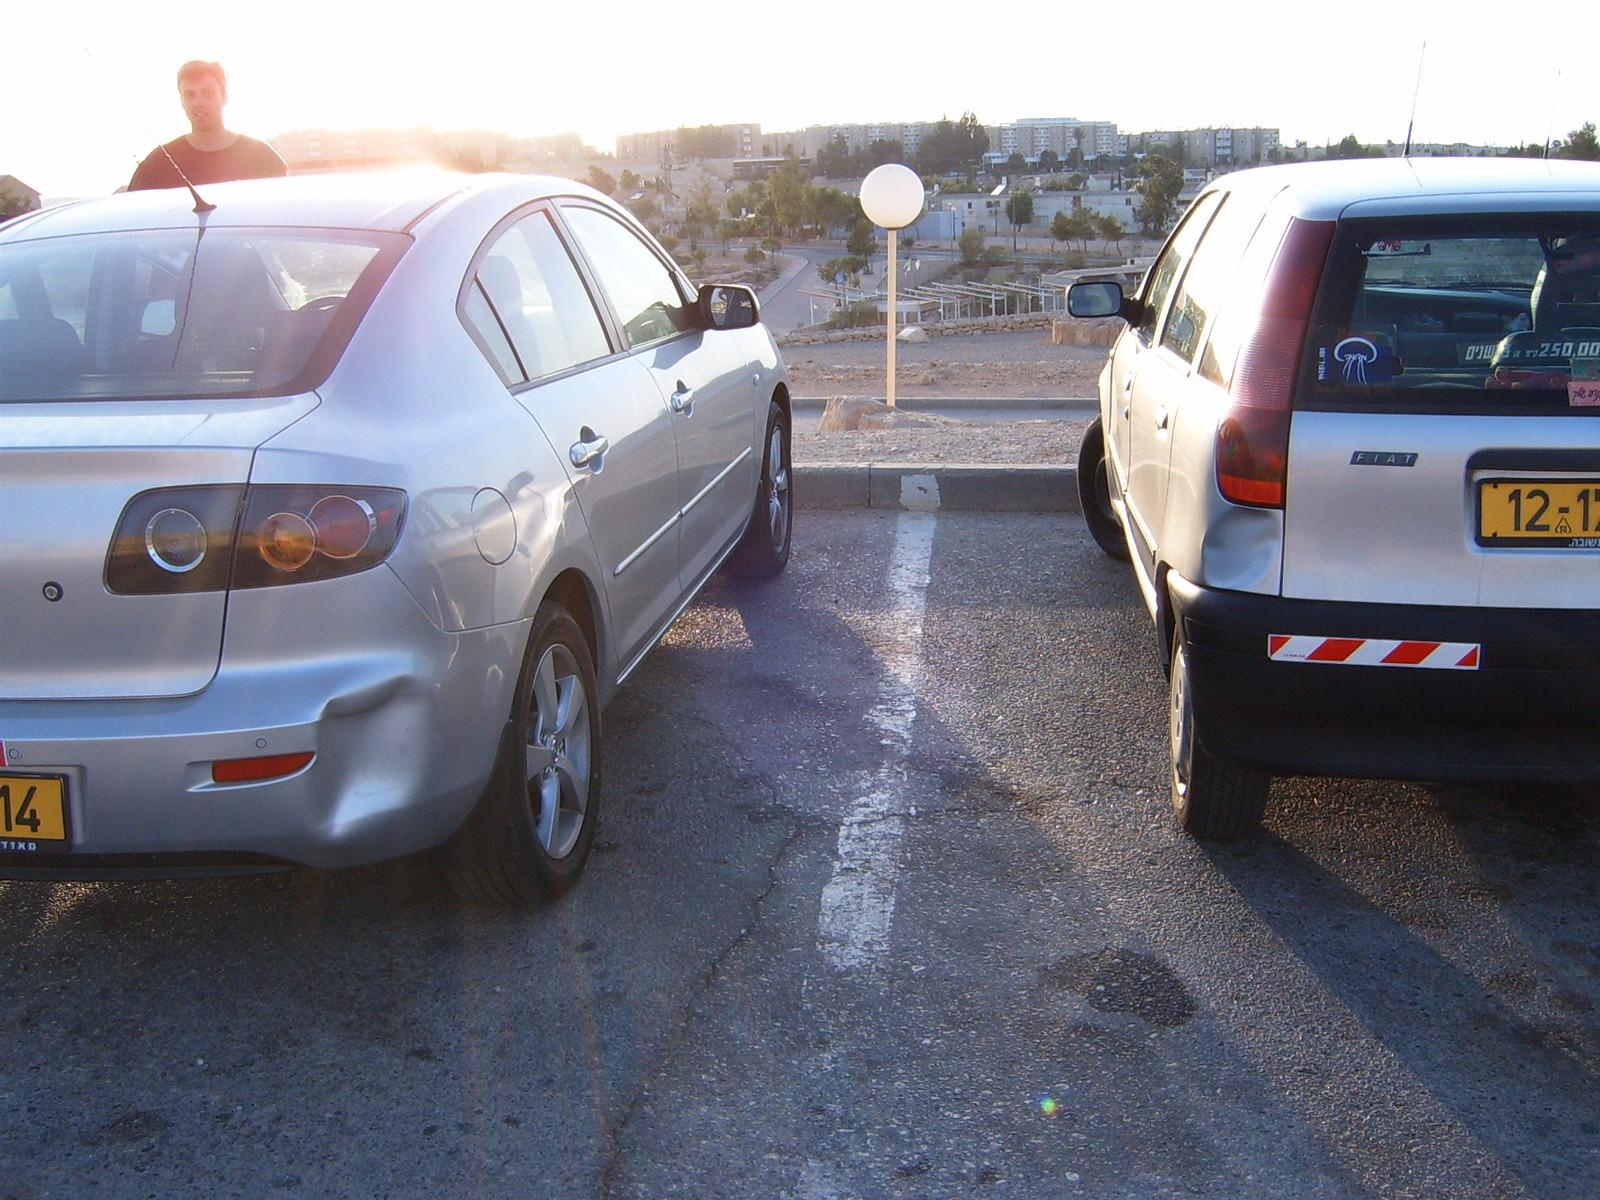rear-bumper-dent: (141, 626, 506, 880)
